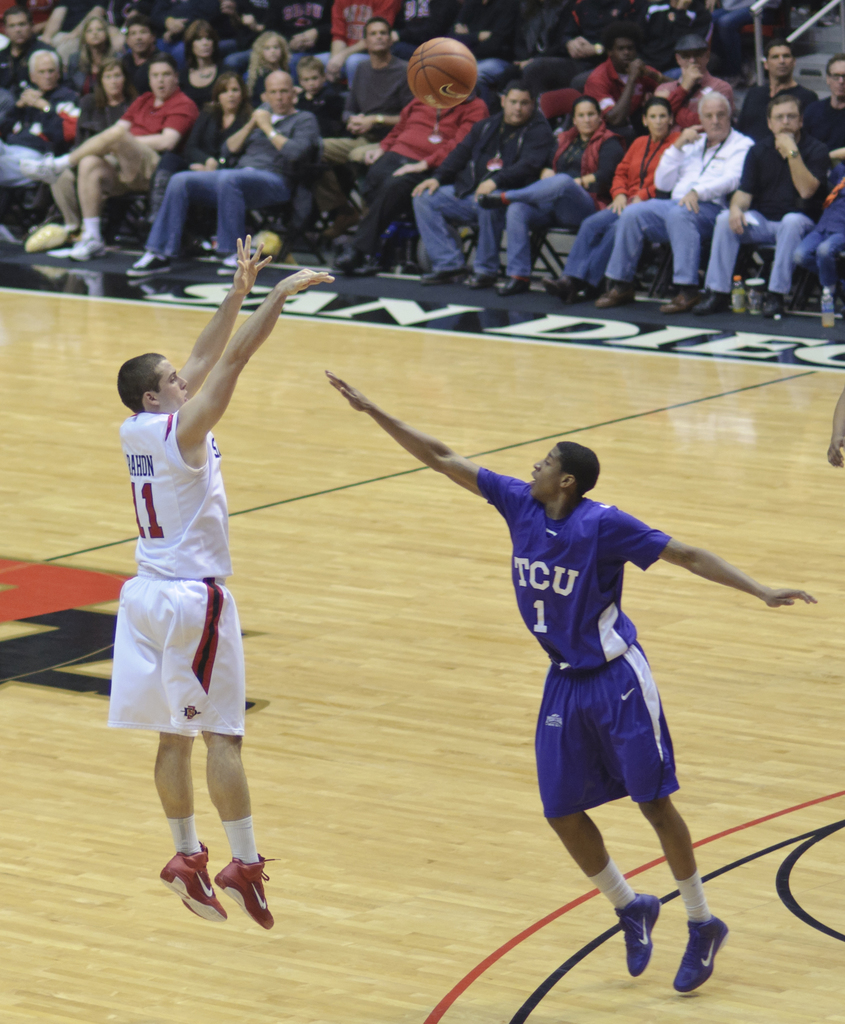Ball: (409, 38, 477, 111)
